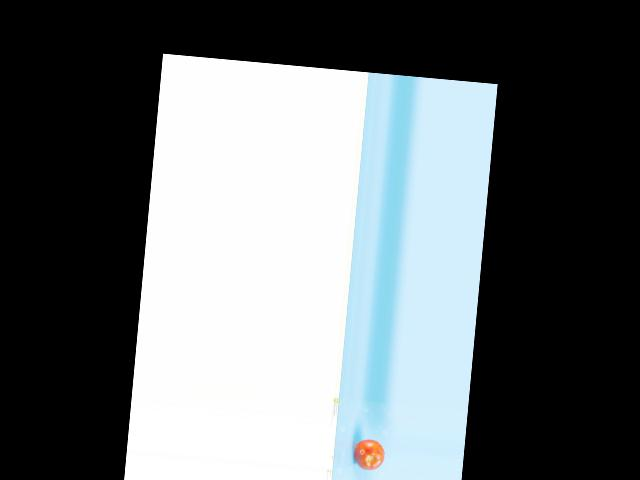tomato: (353, 438, 385, 472)
